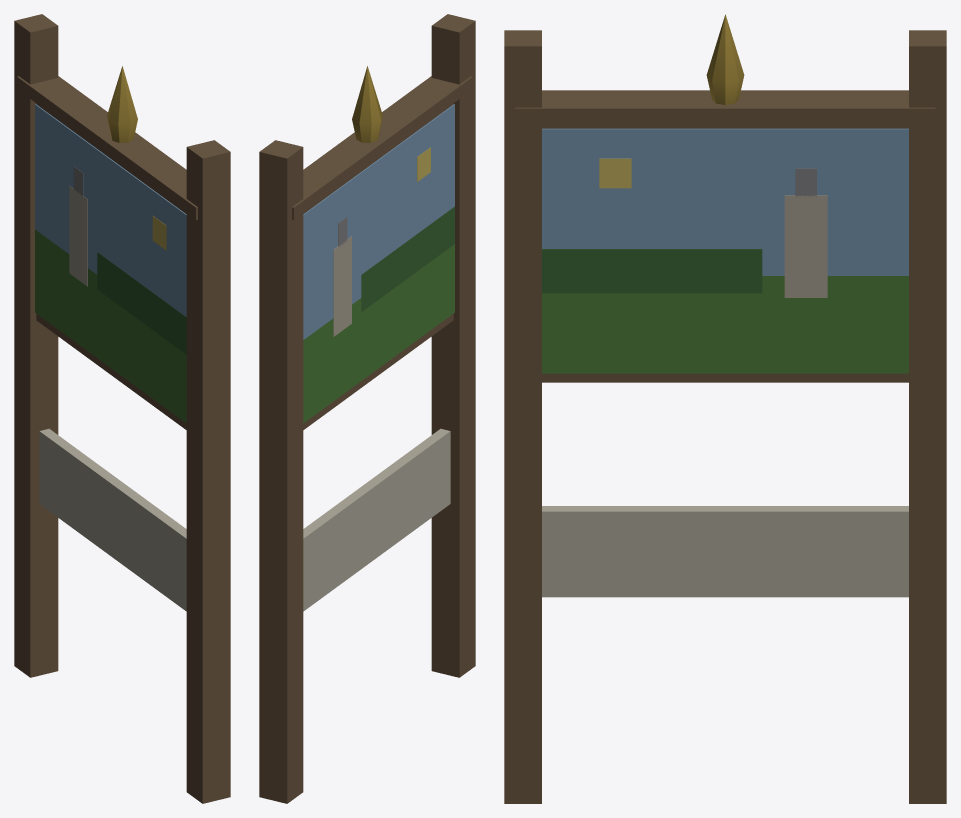
The model's file is SM_Prop_village_sign_1.glb.
The picture shows the model from 3 angles, left to right: view 1: azimuth 30°, elevation 25°; view 2: azimuth 150°, elevation 25°; view 3: azimuth 270°, elevation 25°; orthographic projection. The views are drawn at different scales.
Visible parts, largest first — view 1: SM_Prop_village_sign_1; view 2: SM_Prop_village_sign_1; view 3: SM_Prop_village_sign_1.
Boxes of the visible parts, box(x1,y1,x2,y2) form: SM_Prop_village_sign_1: box(14, 14, 230, 803); SM_Prop_village_sign_1: box(259, 14, 475, 803); SM_Prop_village_sign_1: box(504, 14, 946, 803).
Size of the model in its own units: 0.16 by 3.2 by 1.64.
